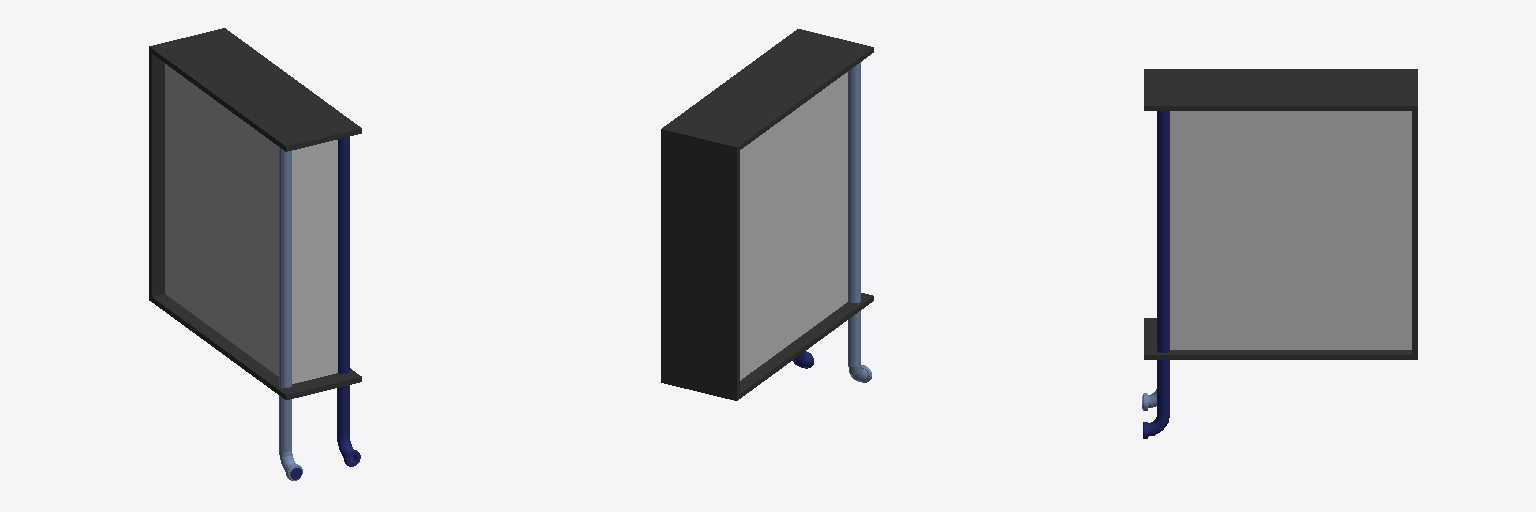
The model's file is CoolingCoil.obj.
3 renders of one model, left to right at view 1: azimuth 30°, elevation 25°; view 2: azimuth 150°, elevation 25°; view 3: azimuth 270°, elevation 25°, orthographic.
Visible parts, largest first — view 1: CoolingCoil; view 2: CoolingCoil; view 3: CoolingCoil.
Part boxes in pixels (bbox=[...]): CoolingCoil: bbox=[149, 28, 361, 480]; CoolingCoil: bbox=[661, 29, 873, 400]; CoolingCoil: bbox=[1142, 69, 1417, 438].
Bounding box in the file's own units: 0.5496 × 2.33 × 1.73.